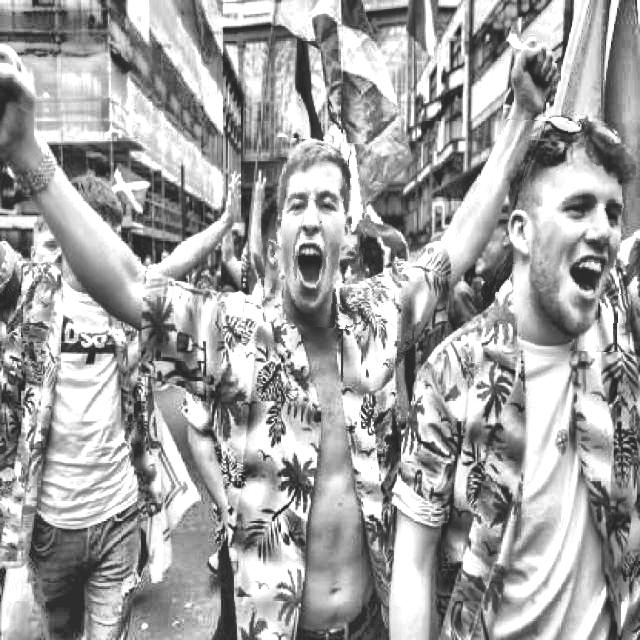happy: (496, 120, 636, 351), (265, 139, 369, 329)
